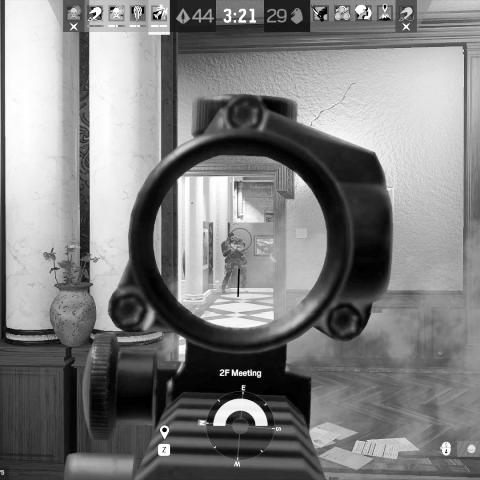Character: (221, 231, 249, 295)
Head: (228, 232, 236, 242)
